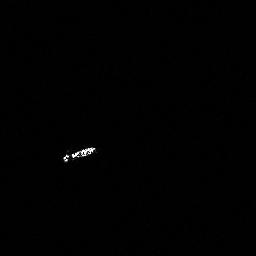ship: (61, 144, 97, 163)
